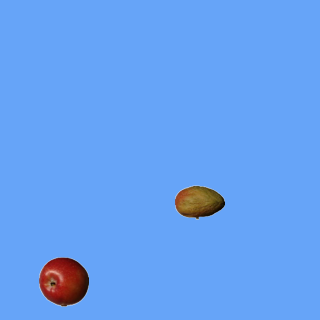Apple Braeburn: (38, 256, 88, 306)
Papaya: (174, 177, 224, 227)
